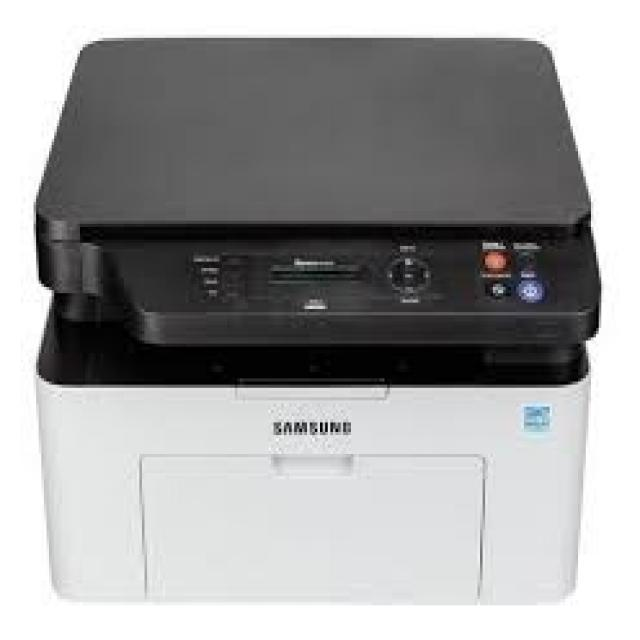printer: (22, 39, 608, 612)
